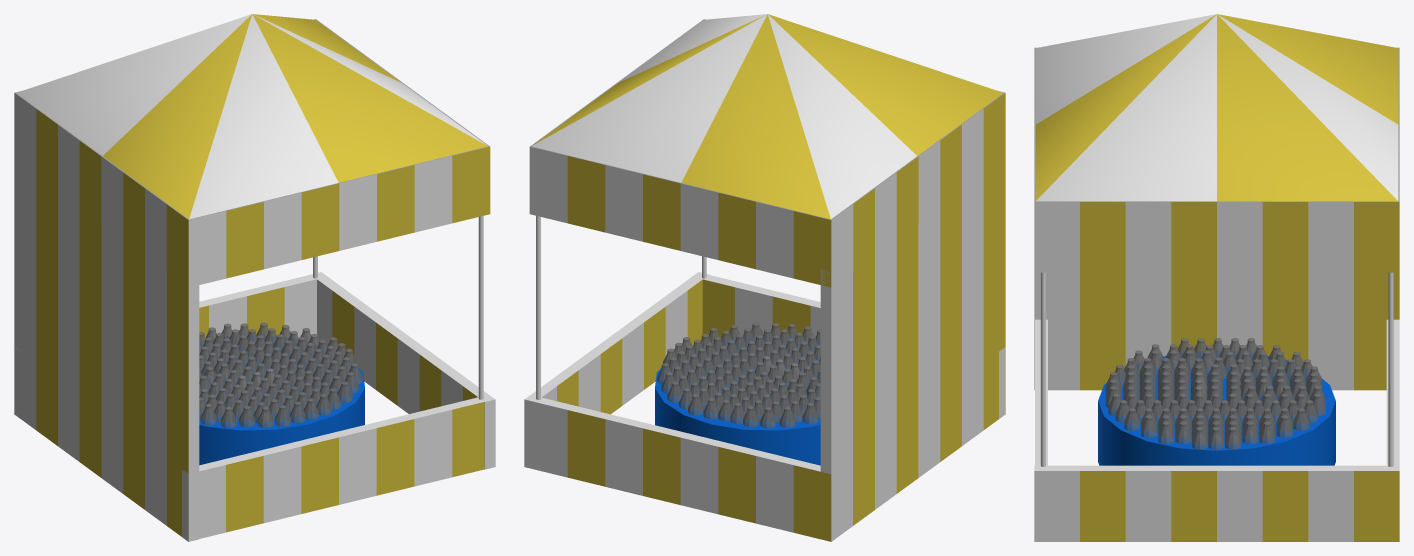
Rendered from yellow_tent.fbx.
The picture shows the model from 3 angles, left to right: view 1: azimuth 30°, elevation 25°; view 2: azimuth 150°, elevation 25°; view 3: azimuth 270°, elevation 25°; orthographic projection. The views are drawn at different scales.
Visible parts, largest first — view 1: yellow_tent; view 2: yellow_tent; view 3: yellow_tent.
Boxes of the visible parts, box(x1,y1,x2,y2) form: yellow_tent: box(14, 14, 495, 541); yellow_tent: box(524, 14, 1005, 541); yellow_tent: box(1034, 14, 1399, 541).
Bounding box in the file's own units: 7.12 × 9.48 × 7.
